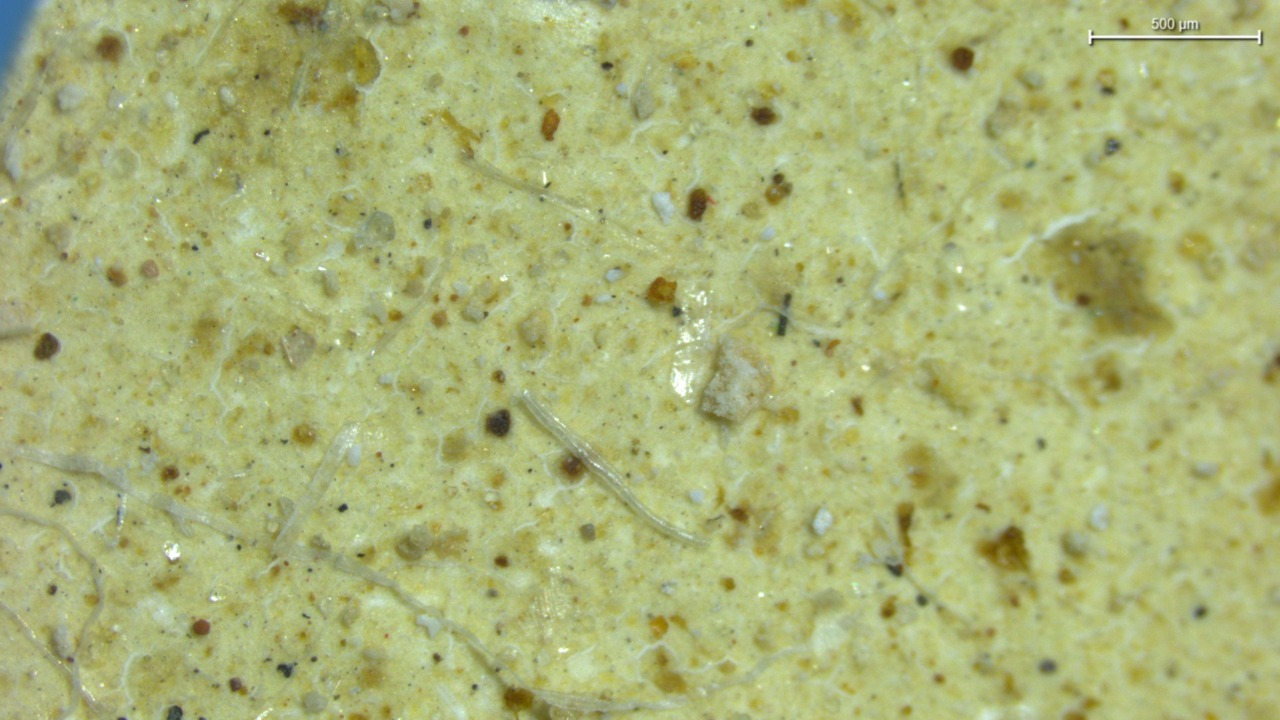microplastic_fragment: (702, 340, 780, 426), (652, 192, 675, 223), (813, 504, 832, 537)
